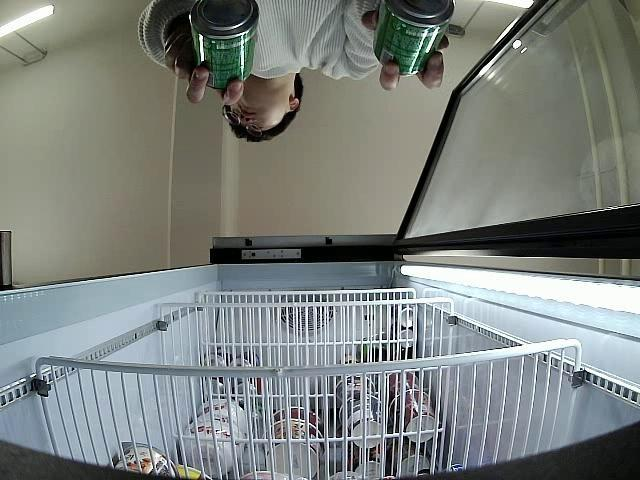12_chilsungCider: (188, 1, 260, 92), (371, 0, 454, 78)
